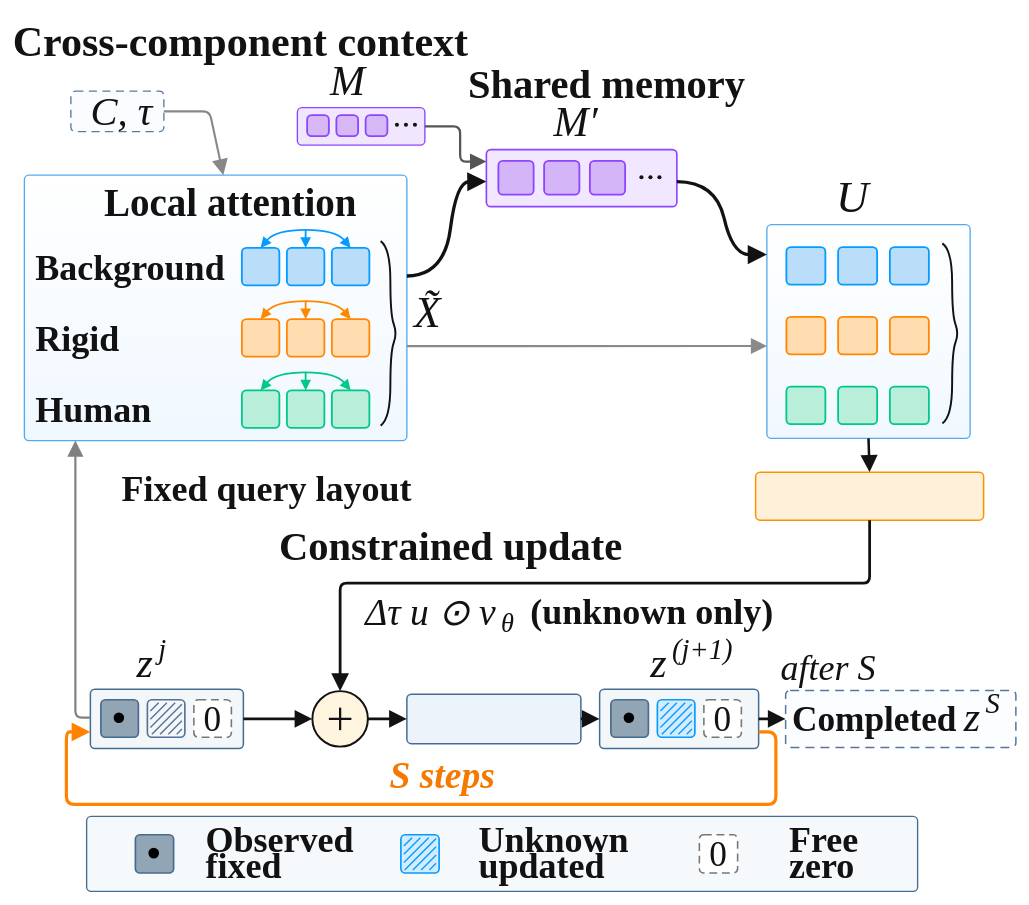
This 1029x905 diagram has some shape labels left out. The centre of each missing label's shape, as x and y in pixels:
"Projection" goes at point 493,718.
"Velocity head" goes at point 869,495.
